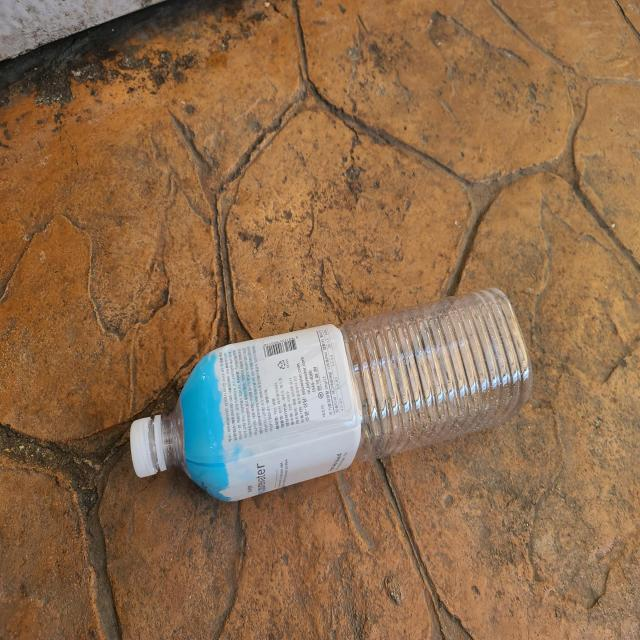plastic: (130, 288, 533, 502)
